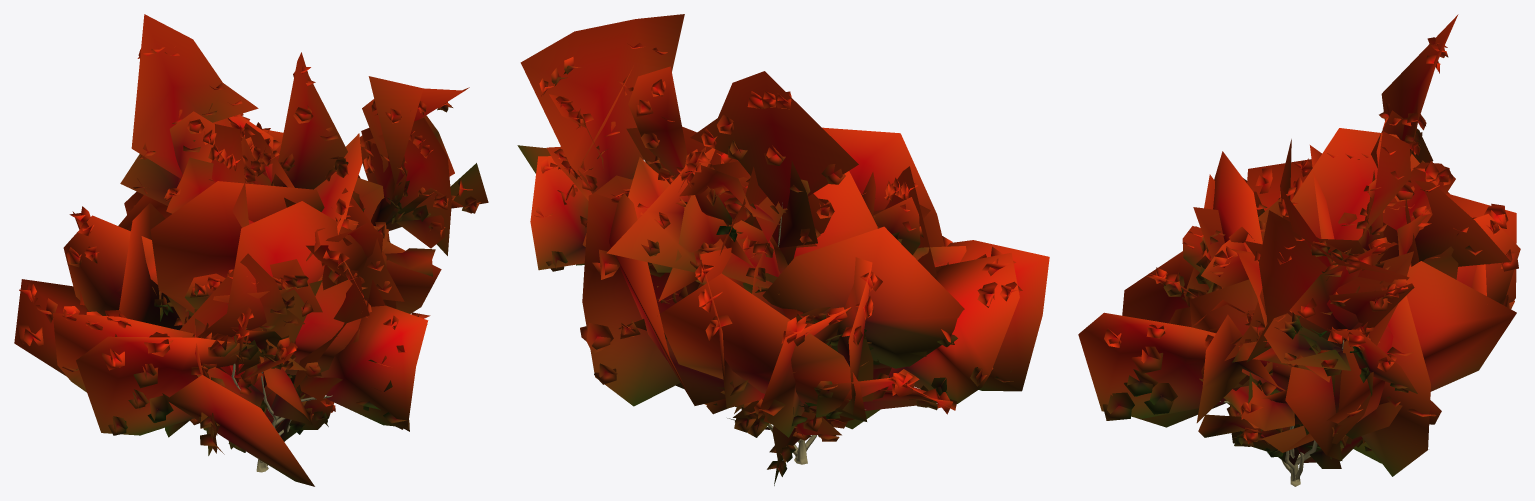
File: RoseBushBigRHEP_A.fbx
3 renders of one model, left to right at view 1: azimuth 30°, elevation 25°; view 2: azimuth 150°, elevation 25°; view 3: azimuth 270°, elevation 25°, orthographic. The views are drawn at different scales.
Visible parts, largest first — view 1: RBBRHEPA-Leaves_LOD0, RBBRHEPA-Branches_LOD0; view 2: RBBRHEPA-Leaves_LOD0; view 3: RBBRHEPA-Leaves_LOD0, RBBRHEPA-Branches_LOD0.
Boxes of the visible parts, x1,y1,x2,y2 form: RBBRHEPA-Leaves_LOD0: (14, 14, 488, 486); RBBRHEPA-Branches_LOD0: (227, 304, 332, 472); RBBRHEPA-Leaves_LOD0: (517, 14, 1049, 485); RBBRHEPA-Leaves_LOD0: (1078, 14, 1520, 476); RBBRHEPA-Branches_LOD0: (1219, 339, 1343, 486).
Size of what is drawn, in the model's own units: 3.55 by 3.21 by 2.88.
